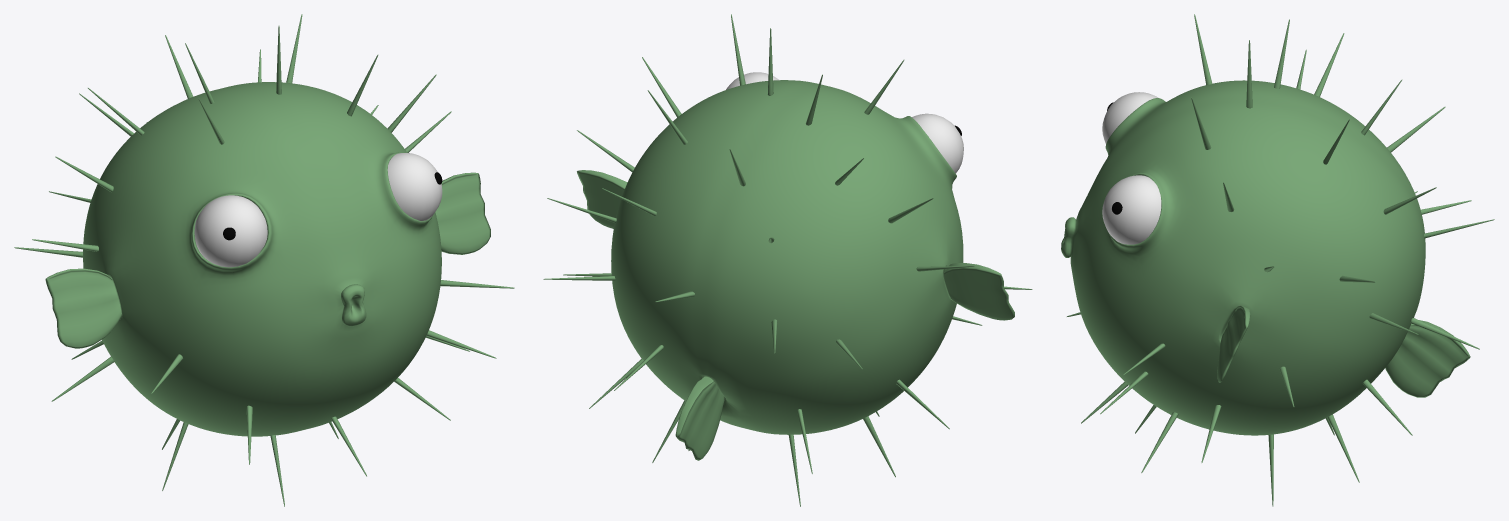
File: pufferfish_one_object.fbx
3 renders of one model, left to right at view 1: azimuth 30°, elevation 25°; view 2: azimuth 150°, elevation 25°; view 3: azimuth 270°, elevation 25°, orthographic.
Parts seen in each view (by area): view 1: high_poly_one_object; view 2: high_poly_one_object; view 3: high_poly_one_object.
Part boxes in pixels (<box>): high_poly_one_object: <box>14,14,514,506</box>; high_poly_one_object: <box>543,14,1032,506</box>; high_poly_one_object: <box>1061,14,1494,506</box>.
Bounding box in the file's own units: 2.77 × 2.68 × 2.44.
